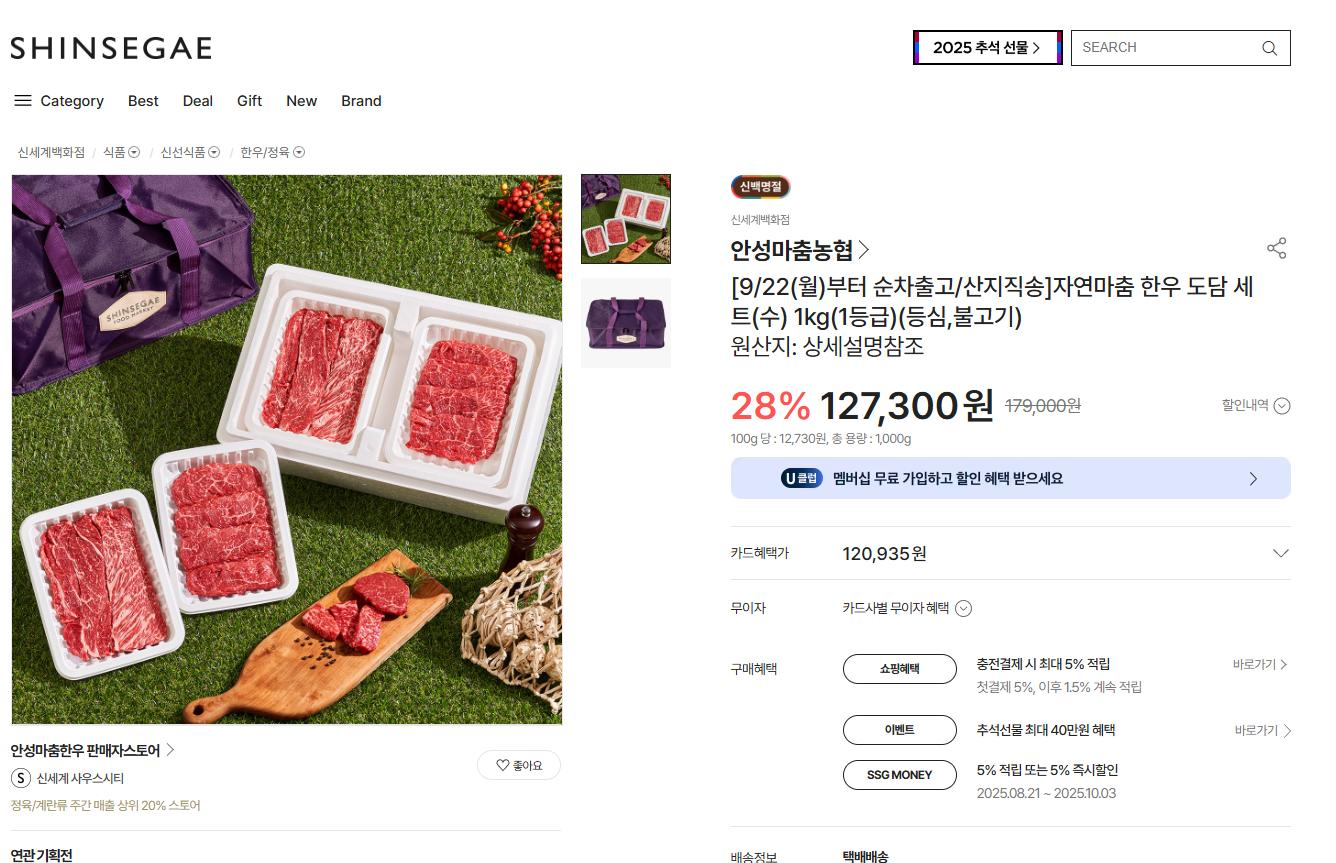button: (731, 227, 872, 266), (6, 736, 180, 766), (1219, 707, 1309, 754), (1216, 647, 1313, 688), (5, 83, 106, 122), (476, 750, 567, 786), (336, 76, 392, 119), (1257, 221, 1298, 266), (176, 83, 222, 118), (281, 80, 324, 113), (234, 83, 275, 116), (121, 82, 163, 114)
checkbox: (841, 539, 1299, 571), (833, 592, 999, 627), (1218, 386, 1299, 423)
input_field: (1070, 28, 1298, 73)
popup: (727, 450, 1299, 505), (902, 25, 1069, 71)
